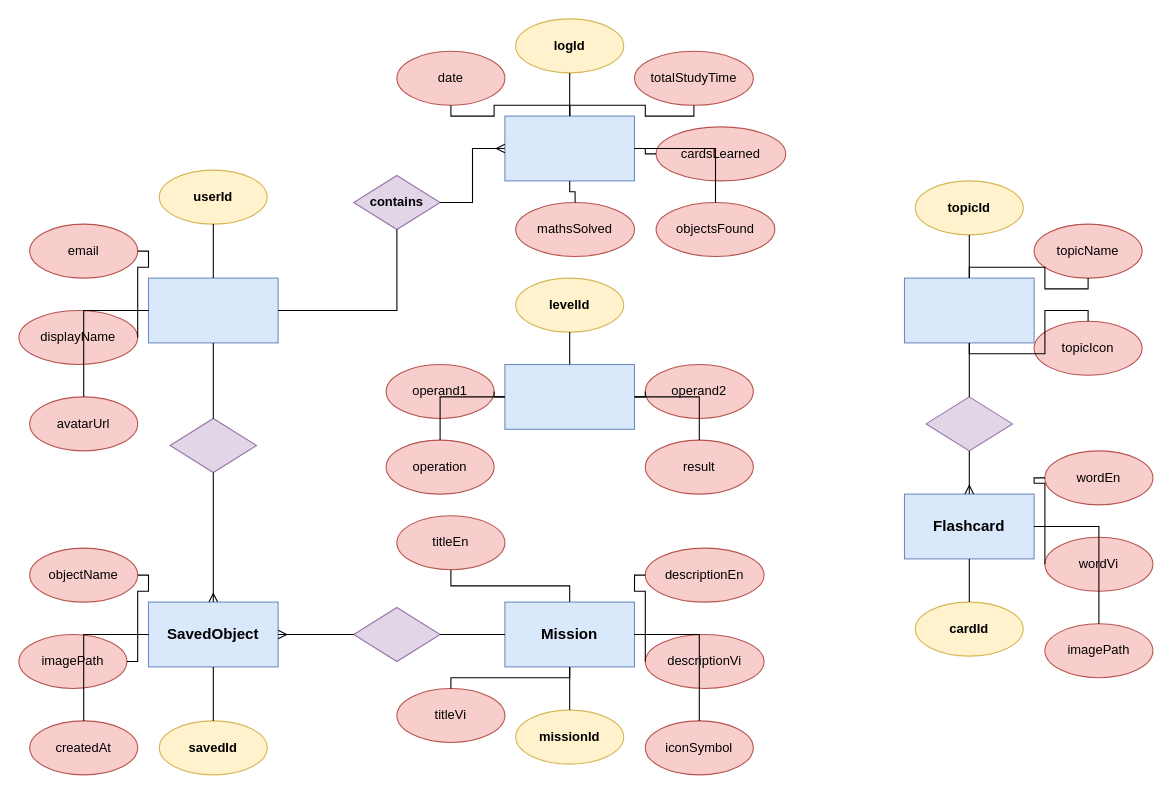
The diagram is 1172 pixels wide and 794 high, and some of its shapes have lost their labels. Each missing label, with the centre of its shape:
"collects" goes at (x=212, y=445).
"has_cards" goes at (x=969, y=423).
"instances" goes at (x=396, y=634).
"MathLevel" goes at (x=569, y=396).
"StudyLog" goes at (x=569, y=148).
"Topic" goes at (x=968, y=310).
"User" goes at (x=212, y=310).
